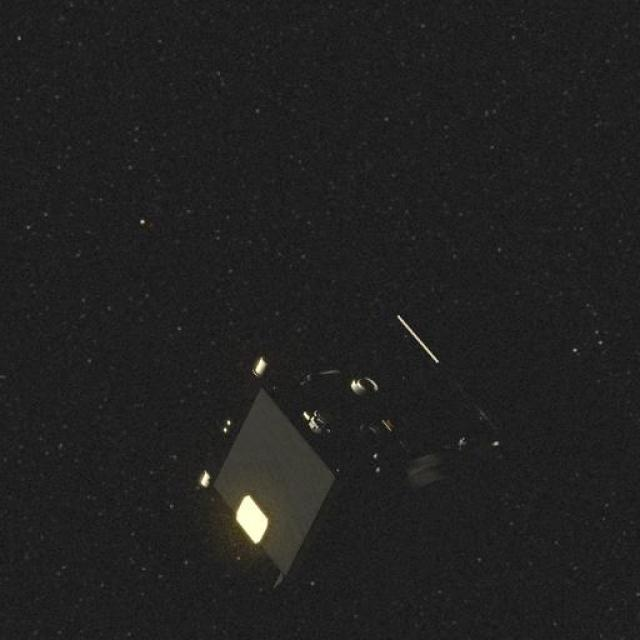proba_3_csc: (166, 300, 527, 604)
